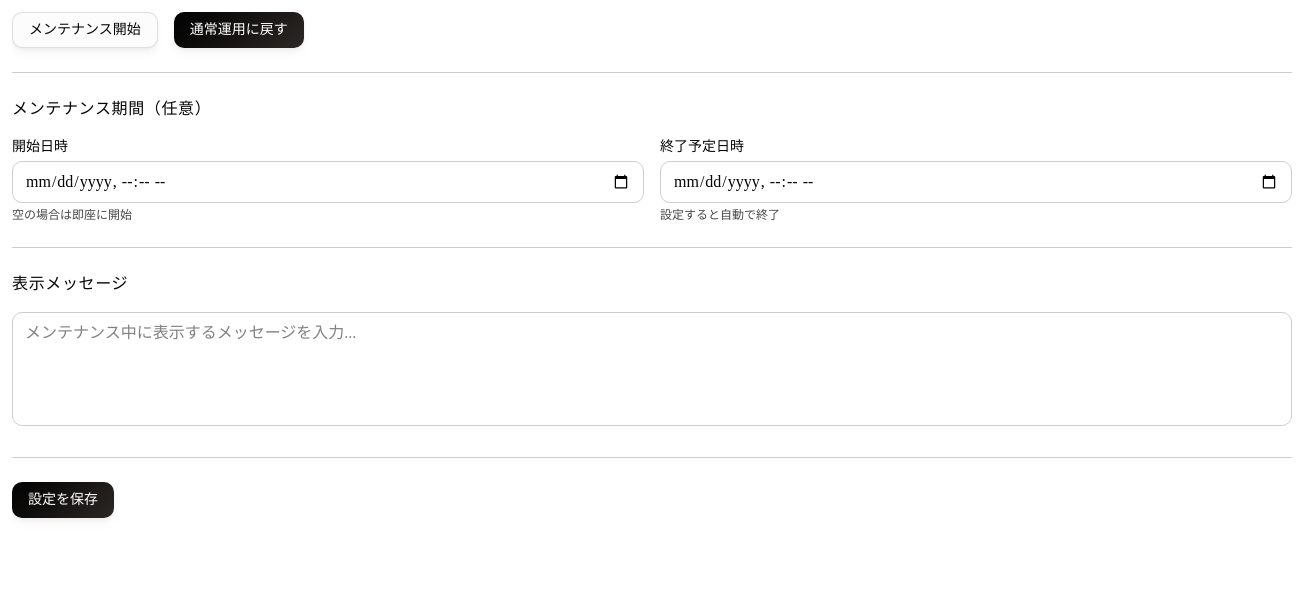
MaintenanceForm › フォーム送信失敗時にエラーメッセージが表示される
Click the button "設定を保存" at (63, 500), box [12,482,114,518]
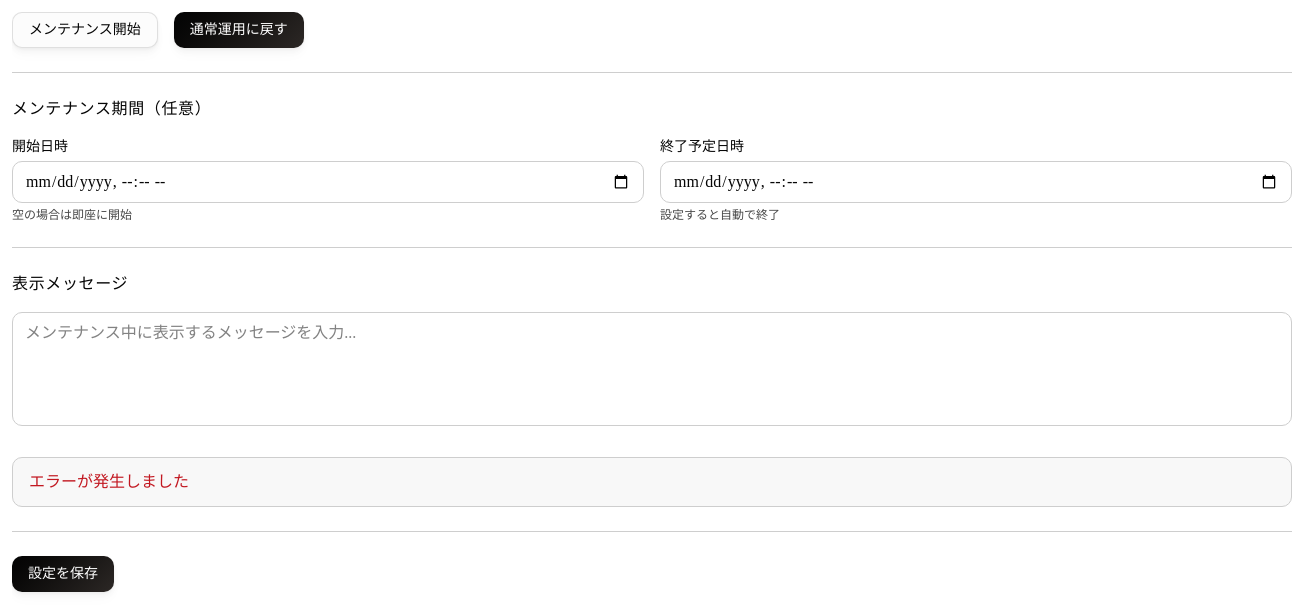
Now the text "エラーが発生しました" is shown, box [12,457,1292,507]
